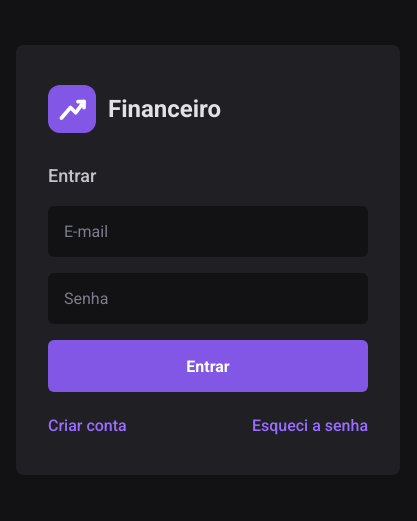
Test: login › criar conta: senha curta é recusada; depois pede para confirmar o e-mail
Click the button "Criar conta". click: [87, 426]
box: [48,416,127,435]
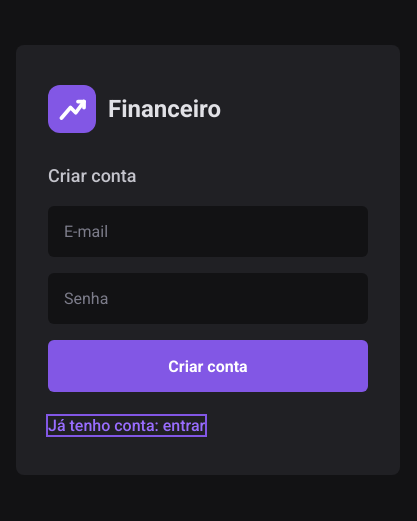
Type "amigo@exemplo.com" into the field labelled "E-mail". click: [208, 232]
box: [48,206,368,257]
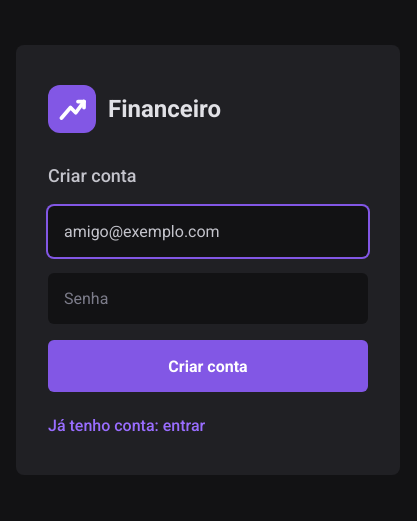
Type "curta" into the password field labelled "Senha". click: [208, 298]
box: [48,273,368,324]
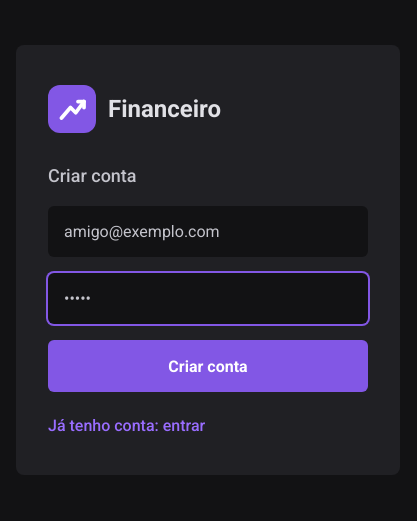
Click the button "Criar conta". click: [208, 366]
box: [48,340,368,392]
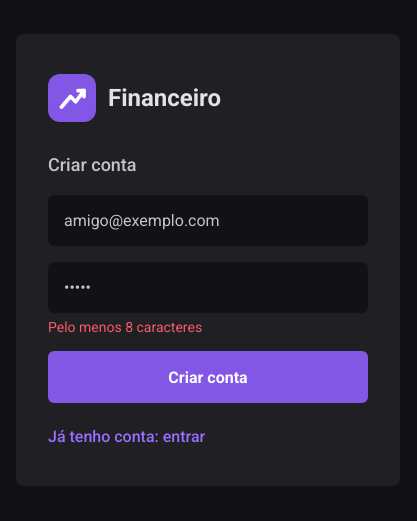
Now the text "Pelo menos 8 caracteres" is shown, box [48,319,202,335]
Clear the password field named "Senha". click: [208, 288]
box: [48,262,368,313]
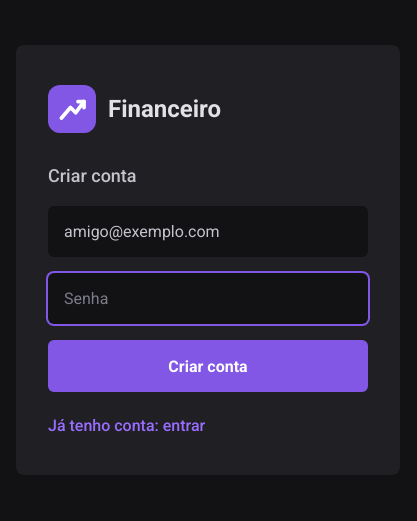
Type "uma-senha-longa-1" into the password field labelled "Senha". click: [208, 298]
box: [48,273,368,324]
Click the button "Criar conta". click: [208, 366]
box: [48,340,368,392]
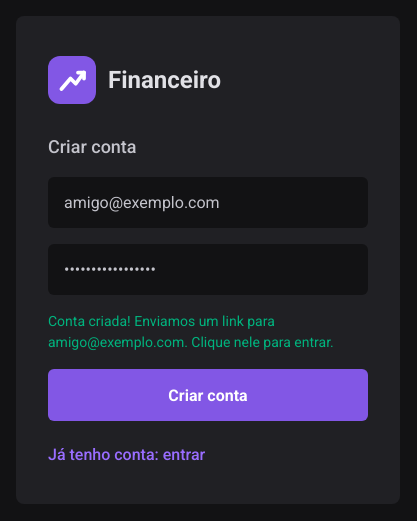
Now the message shows "Conta criada! Enviamos um link para amigo@exemplo.com.", box [48,313,334,350]
